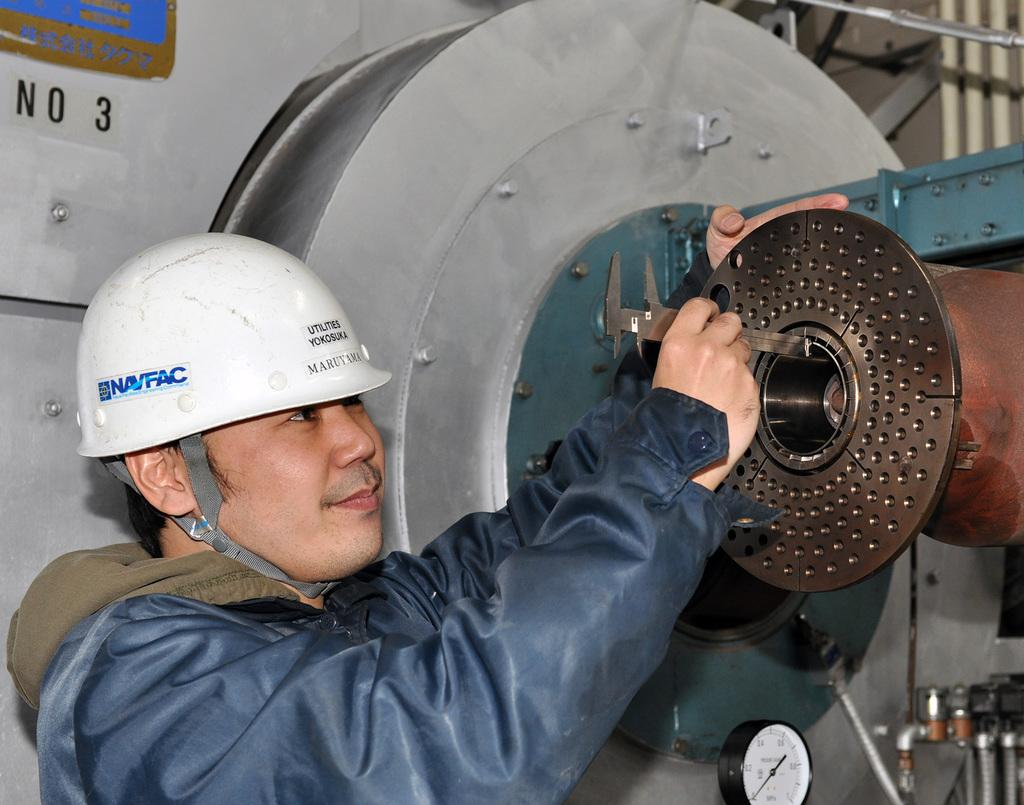helmet: (75, 232, 392, 569)
